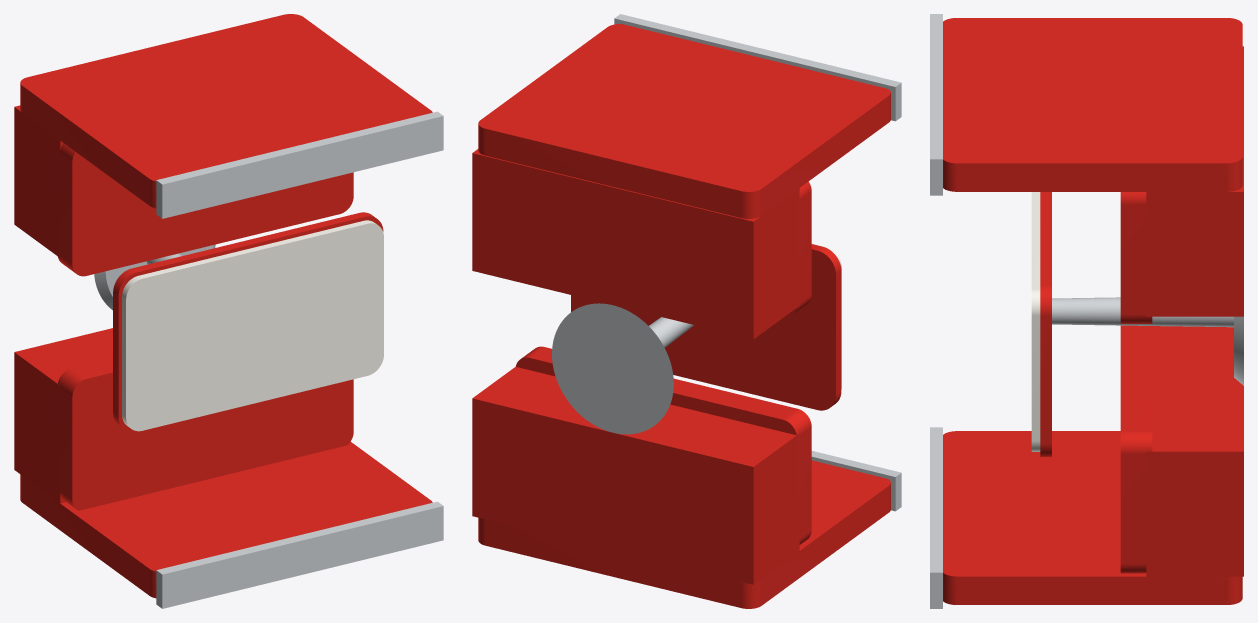
Rendered from booth.glb.
The picture shows the model from 3 angles, left to right: view 1: azimuth 30°, elevation 25°; view 2: azimuth 150°, elevation 25°; view 3: azimuth 270°, elevation 25°; orthographic projection. The views are drawn at different scales.
Parts seen in each view (by area): view 1: ソファ南_背, テーブル天板, ソファ北_背, ソファ北_座, ソファ南_座, ソファ南_レール, ソファ北_レール, ソファ北_台座, ソファ南_台座, テーブル赤エッジ, テーブルベース; view 2: ソファ南_背, ソファ北_台座, ソファ南_台座, ソファ北_背, テーブル赤エッジ, テーブルベース, ソファ北_座, ソファ南_レール, ソファ南_座, ソファ北_レール, テーブル柱; view 3: ソファ南_背, ソファ北_背, ソファ北_台座, ソファ南_台座, ソファ北_座, ソファ南_座, テーブル赤エッジ, テーブル柱, テーブル天板, ソファ南_レール, ソファ北_レール, テーブルベース.
Part boxes in pixels (bbox=[...]): ソファ南_背: bbox=[20, 14, 432, 208]; テーブル天板: bbox=[122, 220, 383, 431]; ソファ北_背: bbox=[20, 441, 432, 598]; ソファ北_座: bbox=[58, 358, 353, 510]; ソファ南_座: bbox=[57, 143, 353, 276]; ソファ南_レール: bbox=[156, 111, 443, 218]; ソファ北_レール: bbox=[156, 501, 443, 608]; ソファ北_台座: bbox=[14, 328, 112, 503]; ソファ南_台座: bbox=[14, 105, 62, 257]; テーブル赤エッジ: bbox=[113, 212, 383, 432]; テーブルベース: bbox=[94, 244, 215, 310]; ソファ南_背: bbox=[478, 24, 890, 218]; ソファ北_台座: bbox=[472, 366, 799, 584]; ソファ南_台座: bbox=[472, 149, 799, 339]; ソファ北_背: bbox=[478, 460, 890, 608]; テーブル赤エッジ: bbox=[571, 244, 841, 410]; テーブルベース: bbox=[552, 303, 673, 434]; ソファ北_座: bbox=[516, 346, 811, 544]; ソファ南_レール: bbox=[614, 14, 901, 121]; ソファ南_座: bbox=[785, 181, 811, 316]; ソファ北_レール: bbox=[811, 451, 901, 511]; テーブル柱: bbox=[649, 317, 693, 347]; ソファ南_背: bbox=[943, 18, 1242, 191]; ソファ北_背: bbox=[943, 431, 1242, 604]; ソファ北_台座: bbox=[1146, 326, 1243, 576]; ソファ南_台座: bbox=[1146, 46, 1243, 316]; ソファ北_座: bbox=[1120, 325, 1152, 573]; ソファ南_座: bbox=[1120, 192, 1152, 323]; テーブル赤エッジ: bbox=[1040, 192, 1051, 456]; テーブル柱: bbox=[1052, 297, 1233, 327]; テーブル天板: bbox=[1031, 192, 1040, 451]; ソファ南_レール: bbox=[930, 14, 942, 195]; ソファ北_レール: bbox=[930, 427, 942, 608]; テーブルベース: bbox=[1234, 316, 1243, 385].
Bounding box in the file's own units: 1200 × 1730 × 1095.
